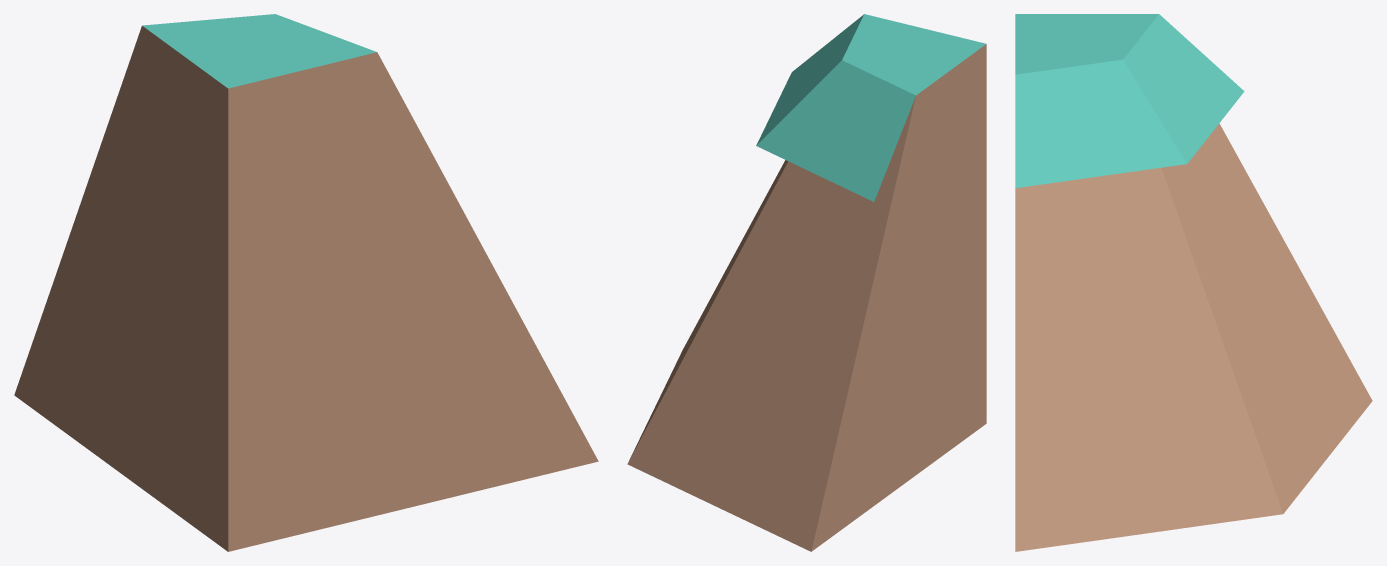
Rendered from cliff_halfCorner_rock.glb.
3 views of the same model, side by side, from view 1: azimuth 30°, elevation 25°; view 2: azimuth 150°, elevation 25°; view 3: azimuth 270°, elevation 25° (orthographic). The views are drawn at different scales.
Visible parts, largest first — view 1: cliff_halfCorner_rock; view 2: cliff_halfCorner_rock; view 3: cliff_halfCorner_rock.
Boxes of the visible parts, bbox=[...] form: cliff_halfCorner_rock: bbox=[14, 14, 598, 551]; cliff_halfCorner_rock: bbox=[627, 14, 986, 551]; cliff_halfCorner_rock: bbox=[1015, 14, 1372, 551].
Size of the model in its own units: 0.4185 by 0.5 by 0.4185.
